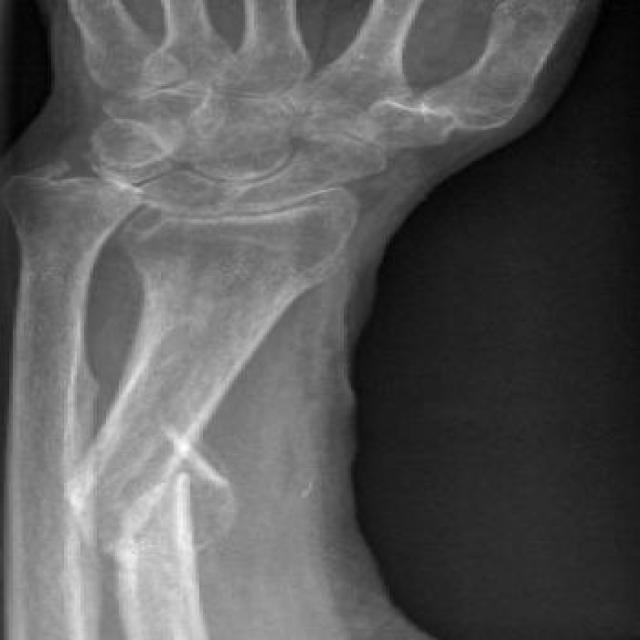Fracture: (68, 441, 250, 529)
